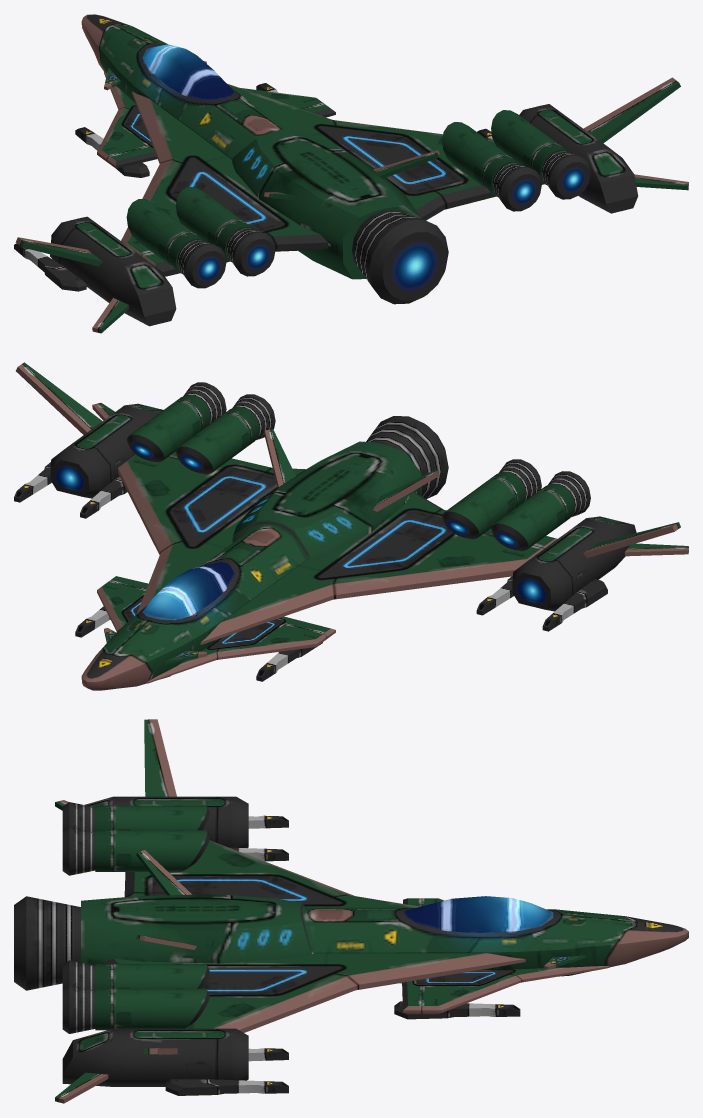
The model's file is scout4.gltf.
3 views of the same model, one above another, from view 1: azimuth 30°, elevation 25°; view 2: azimuth 150°, elevation 25°; view 3: azimuth 270°, elevation 25° (orthographic). The views are drawn at different scales.
Parts seen in each view (by area): view 1: scout4; view 2: scout4; view 3: scout4.
Part boxes in pixels (x1=…): scout4: x1=14, y1=14, x2=688, y2=333; scout4: x1=14, y1=362, x2=688, y2=690; scout4: x1=14, y1=719, x2=688, y2=1103.
Bounding box in the file's own units: 12.59 × 1.82 × 10.85.
Materials: 1 (1 with a texture image).
